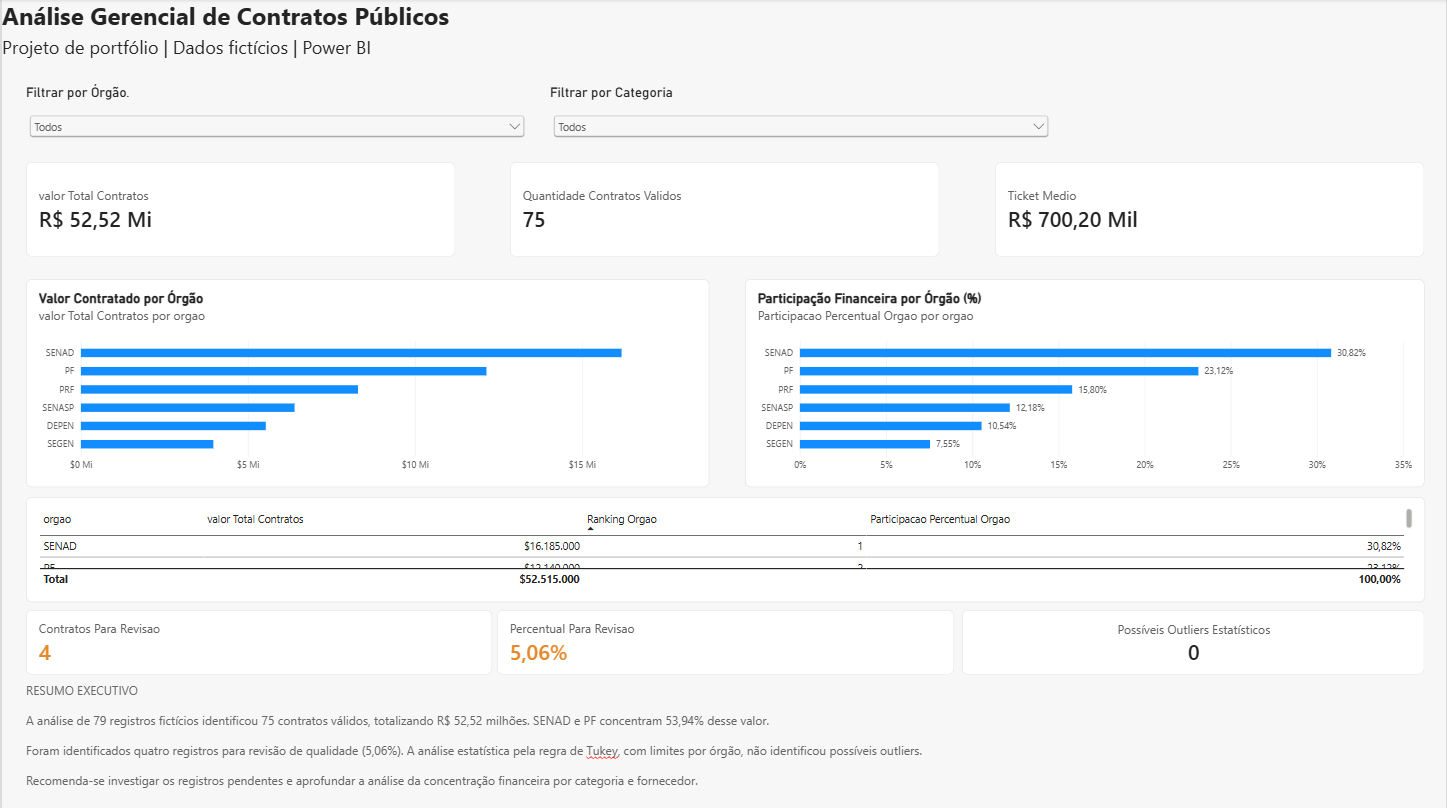

Layout of this report page (visuals, bound fields, positions):
{"tool":"powerbi","page":{"name":"01 - Visão Executiva","canvas":[1920,1080],"ordinal":0},"visuals":[{"type":"cardVisual","fields":{"Data":["Contratos.valor Total Contratos"]},"box":[31.7,216.4,571.2,126.9],"z":0},{"type":"cardVisual","fields":{"Data":["Contratos.Quantidade Contratos Validos"]},"box":[675.1,216.4,571.2,126.9],"z":1},{"type":"cardVisual","fields":{"Data":["Contratos.Ticket Medio"]},"box":[1321.4,216.4,571.2,126.9],"z":2},{"type":"cardVisual","fields":{"Data":["Contratos.Contratos Para Revisao"]},"box":[31.7,812.1,620.3,86.6],"z":3},{"type":"cardVisual","fields":{"Data":["Contratos.Percentual Para Revisao"]},"box":[657.8,812.1,608.7,86.6],"z":4},{"type":"clusteredBarChart","title":"Valor Contratado por Órgão","fields":{"Category":["Contratos.orgao"],"Y":["Contratos.valor Total Contratos"]},"box":[31.7,372.2,908.8,277],"z":5},{"type":"tableEx","title":"Ranking Financeiro dos Órgãos","fields":{"Values":["Contratos.orgao","Contratos.valor Total Contratos","Contratos.Ranking Orgao","Contratos.Participacao Percentual Orgao"]},"box":[31.7,662.1,1860.9,139.9],"z":6},{"type":"clusteredBarChart","title":"Participação Financeira por Órgão (%)","fields":{"Category":["Contratos.orgao"],"Y":["Contratos.Participacao Percentual Orgao"]},"box":[988.1,372.2,904.5,277],"z":7},{"type":"slicer","title":"Filtrar por Categoria","fields":{"Values":["Contratos.categoria"]},"box":[728.5,112.5,667.9,80.8],"z":8},{"type":"slicer","title":"Filtrar por Órgão.","fields":{"Values":["Contratos.orgao"]},"box":[31.7,112.5,667.9,80.8],"z":9},{"type":"textbox","box":[0,0,1920,46.7],"z":10},{"type":"textbox","box":[0,46.7,1920,36.5],"z":11},{"type":"cardVisual","title":"Possíveis Outliers | Seleção Atual","fields":{"Data":["Contratos.Quantidade Outliers"]},"box":[1276.6,812.1,616,86.6],"z":13},{"type":"textbox","box":[31.7,908.8,1860.9,161.6],"z":14}]}

Visuals, with their boxes in screenshot pixels (x1, y1, x2, y2), scaled from the page's 1920x1080 canvas onto the 1447x808 screenshot:
cardVisual - Contratos.valor Total Contratos: 24 162 454 257
cardVisual - Contratos.Quantidade Contratos Validos: 509 162 939 257
cardVisual - Contratos.Ticket Medio: 996 162 1426 257
cardVisual - Contratos.Contratos Para Revisao: 24 608 491 672
cardVisual - Contratos.Percentual Para Revisao: 496 608 954 672
"Valor Contratado por Órgão" clusteredBarChart: 24 278 709 486
"Ranking Financeiro dos Órgãos" tableEx: 24 495 1426 600
"Participação Financeira por Órgão (%)" clusteredBarChart: 745 278 1426 486
"Filtrar por Categoria" slicer: 549 84 1052 145
"Filtrar por Órgão." slicer: 24 84 527 145
textbox: 0 0 1446 35
textbox: 0 35 1446 62
"Possíveis Outliers | Seleção Atual" cardVisual: 962 608 1426 672
textbox: 24 680 1426 801
